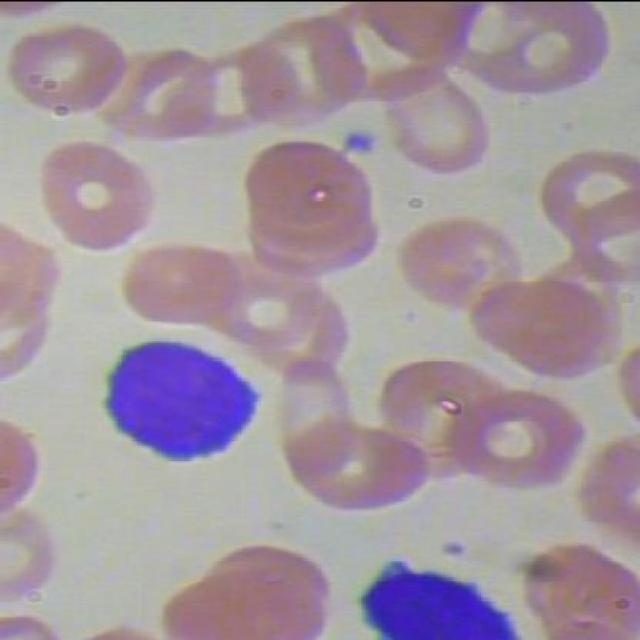Platelets: (336, 126, 382, 160)
RBC: (456, 268, 622, 386), (444, 386, 593, 506), (32, 133, 162, 253), (397, 202, 526, 322), (158, 558, 336, 639), (117, 233, 258, 335), (287, 418, 438, 513), (241, 131, 382, 232), (11, 15, 134, 128), (105, 42, 228, 144)
WBC: (95, 334, 278, 471), (355, 559, 527, 639)
